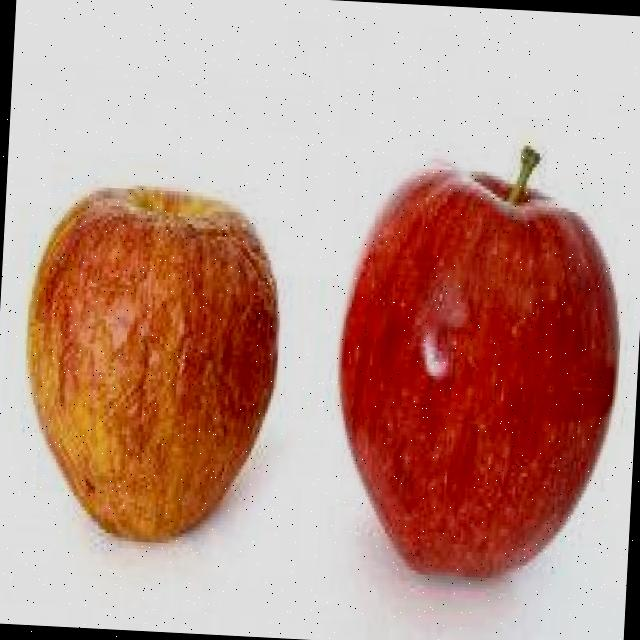apple: (296, 102, 640, 627), (0, 125, 301, 606)
